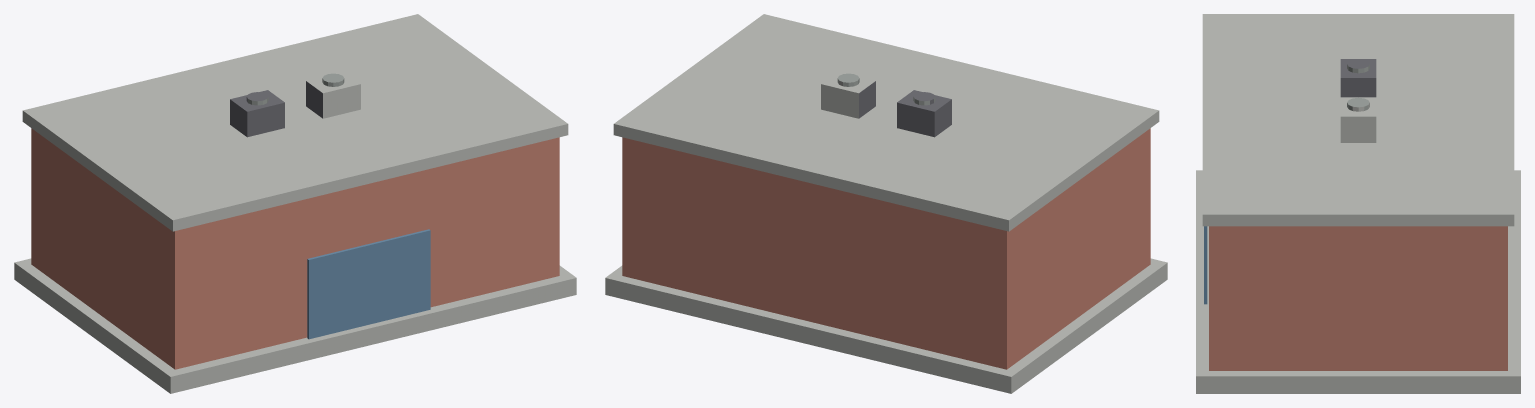
Rendered from clinic_urgent_care.glb.
The picture shows the model from 3 angles, left to right: view 1: azimuth 30°, elevation 25°; view 2: azimuth 150°, elevation 25°; view 3: azimuth 270°, elevation 25°; orthographic projection. The views are drawn at different scales.
Visible parts, largest first — view 1: clinic_urgent_care; view 2: clinic_urgent_care; view 3: clinic_urgent_care.
Part boxes in pixels (x1,y1,x2,y2): clinic_urgent_care: (14,14,576,393); clinic_urgent_care: (605,14,1167,393); clinic_urgent_care: (1196,14,1520,393).
Size of the model in its own units: 15 by 7.05 by 10.
